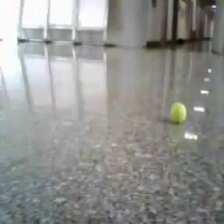tennis: (170, 102, 187, 121)
